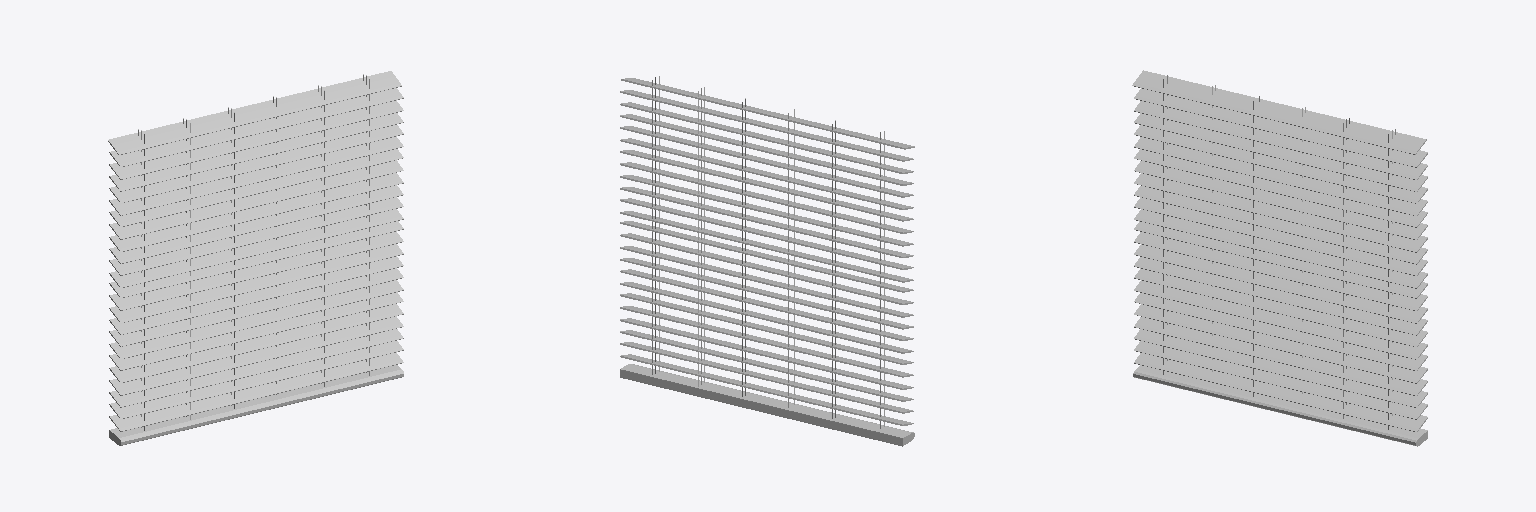
The model's file is blind.obj.
3 views of the same model, side by side, from view 1: azimuth 30°, elevation 25°; view 2: azimuth 150°, elevation 25°; view 3: azimuth 330°, elevation 25° (orthographic).
Parts seen in each view (by area): view 1: slits blind blind_slit17, slits blind blind_base, slits blind blind_slit4, slits blind blind_slit12, slits blind blind_slit15, slits blind blind_slit3, slits blind blind_slit6, slits blind blind_slit18, blind_slit slits blind, slits blind blind_slit10, slits blind blind_slit21, slits blind blind_slit9 (+13 smaller); view 2: slits blind blind_base, slits blind blind_slit21, slits blind blind_slit23, slits blind blind_slit10, slits blind blind_slit16, slits blind blind_slit18, slits blind blind_slit5, slits blind blind_slit7, slits blind blind_slit3, slits blind blind_slit12, slits blind blind_slit22, blind_slit slits blind (+13 smaller); view 3: slits blind blind_slit17, slits blind blind_base, slits blind blind_slit16, blind_slit slits blind, slits blind blind_slit3, slits blind blind_slit18, slits blind blind_slit4, slits blind blind_slit6, slits blind blind_slit15, slits blind blind_slit12, slits blind blind_slit9, slits blind blind_slit22 (+13 smaller).
Boxes of the visible parts, <box> form: slits blind blind_slit17: <box>108,71,401,154</box>; slits blind blind_base: <box>109,365,403,445</box>; slits blind blind_slit4: <box>109,231,403,310</box>; slits blind blind_slit12: <box>109,136,403,215</box>; slits blind blind_slit15: <box>109,100,403,179</box>; slits blind blind_slit3: <box>109,244,403,322</box>; slits blind blind_slit6: <box>109,352,403,431</box>; slits blind blind_slit18: <box>109,209,403,287</box>; blind_slit slits blind: <box>109,280,403,358</box>; slits blind blind_slit10: <box>109,304,403,382</box>; slits blind blind_slit21: <box>109,173,403,251</box>; slits blind blind_slit9: <box>109,316,403,395</box>; slits blind blind_base: <box>620,364,914,446</box>; slits blind blind_slit21: <box>620,175,913,246</box>; slits blind blind_slit23: <box>620,150,913,221</box>; slits blind blind_slit10: <box>620,306,913,377</box>; slits blind blind_slit16: <box>620,90,913,161</box>; slits blind blind_slit18: <box>620,211,913,282</box>; slits blind blind_slit5: <box>620,221,913,292</box>; slits blind blind_slit7: <box>620,342,913,413</box>; slits blind blind_slit3: <box>620,246,913,317</box>; slits blind blind_slit12: <box>620,138,913,209</box>; slits blind blind_slit22: <box>620,162,913,233</box>; blind_slit slits blind: <box>620,282,913,353</box>; slits blind blind_slit17: <box>1132,70,1426,154</box>; slits blind blind_base: <box>1133,365,1427,446</box>; slits blind blind_slit16: <box>1134,88,1427,167</box>; blind_slit slits blind: <box>1134,280,1427,359</box>; slits blind blind_slit3: <box>1134,244,1427,323</box>; slits blind blind_slit18: <box>1134,209,1427,288</box>; slits blind blind_slit4: <box>1134,232,1427,310</box>; slits blind blind_slit6: <box>1134,353,1427,431</box>; slits blind blind_slit15: <box>1134,101,1427,179</box>; slits blind blind_slit12: <box>1134,137,1427,215</box>; slits blind blind_slit9: <box>1134,317,1427,395</box>; slits blind blind_slit22: <box>1134,161,1427,239</box>.
Bounding box in the file's own units: 35.73 × 36.61 × 2.64.